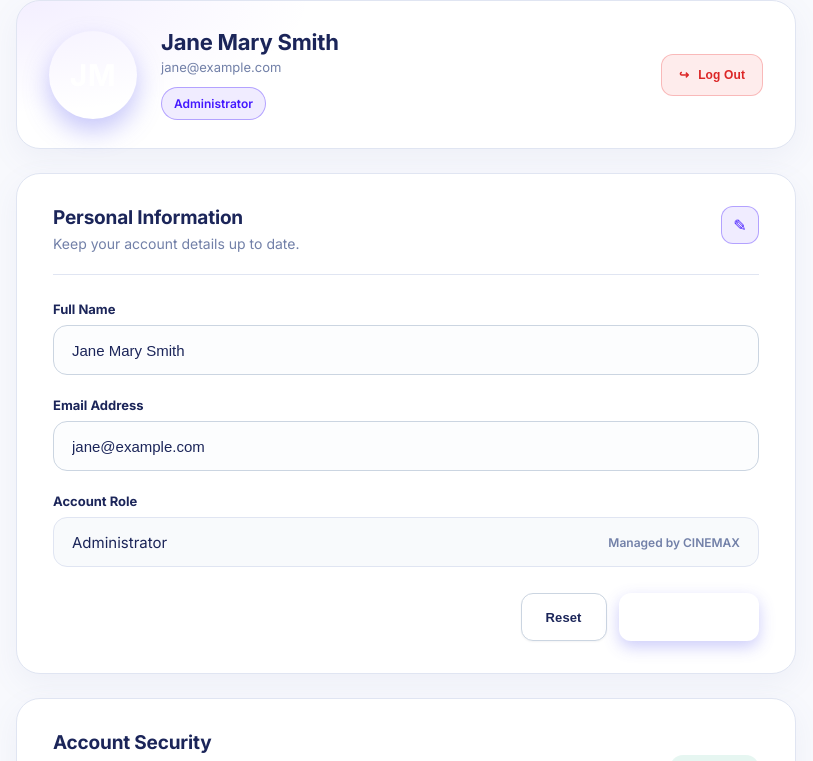
Test case: AdminProfile › shows a fallback error when the API error has no message
Click the button "Save Changes" at (689, 617), box [619,593,759,641]
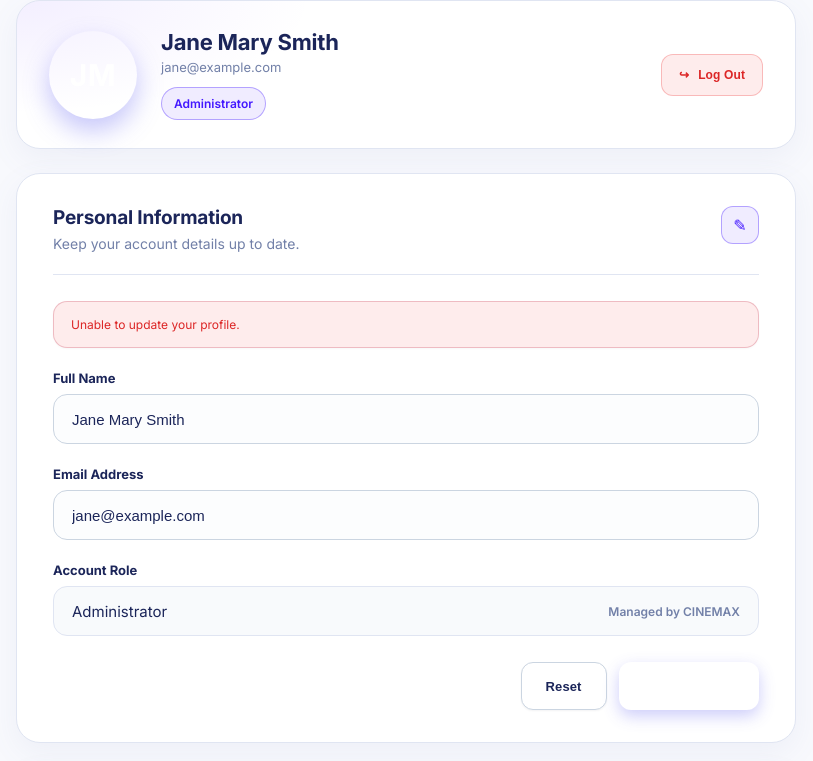
Expected: the message reads "Unable to update your profile.", [71,317,240,332]
